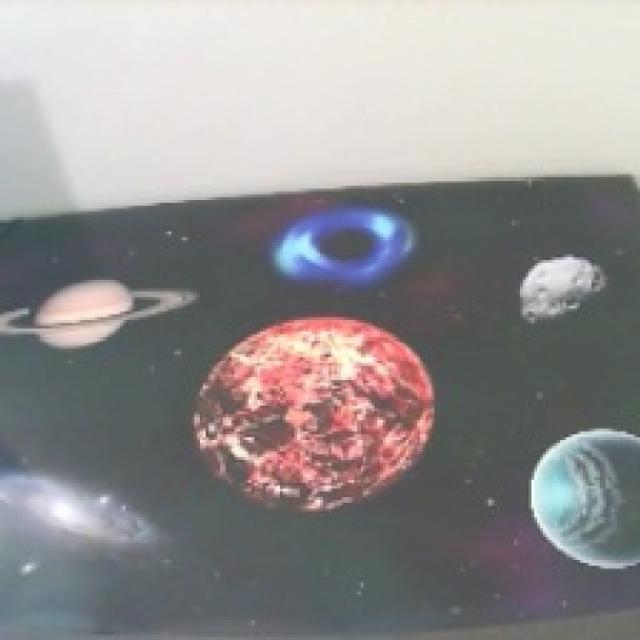Asteroid: (516, 253, 606, 329)
Black Hole: (270, 209, 416, 284)
Earth: (531, 426, 640, 570)
Galaxy: (0, 468, 194, 563)
Saturn: (0, 281, 200, 350)
Sun: (197, 316, 434, 512)
